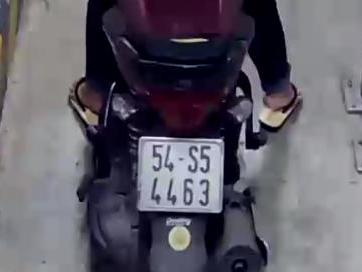num_plate: (137, 135, 222, 213)
